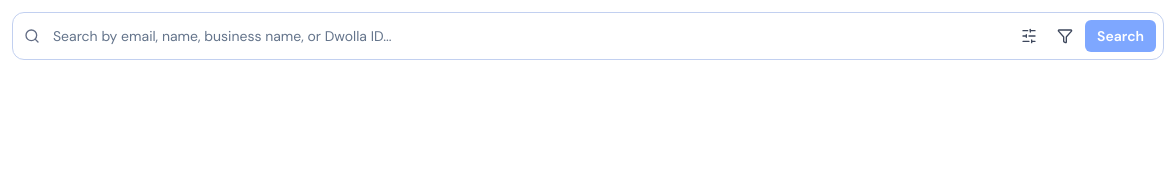
Test case: AdvancedSearchBar › Saved Searches › shows saved searches in dropdown when available
# Click the dropdown menu button (SlidersHorizontal icon)
Click the 1st button at point(1029, 36), box [1013,20,1045,52]
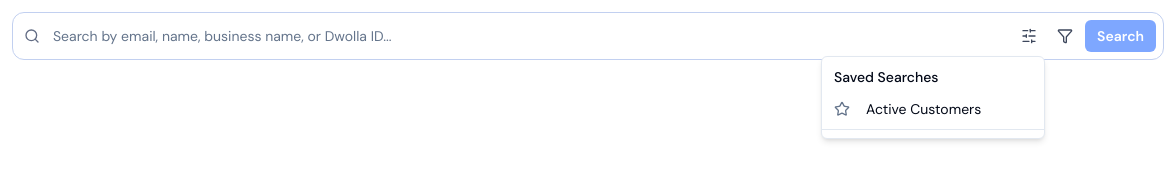
Now the menu item "Active Customers" is shown, box [834,100,981,118]
